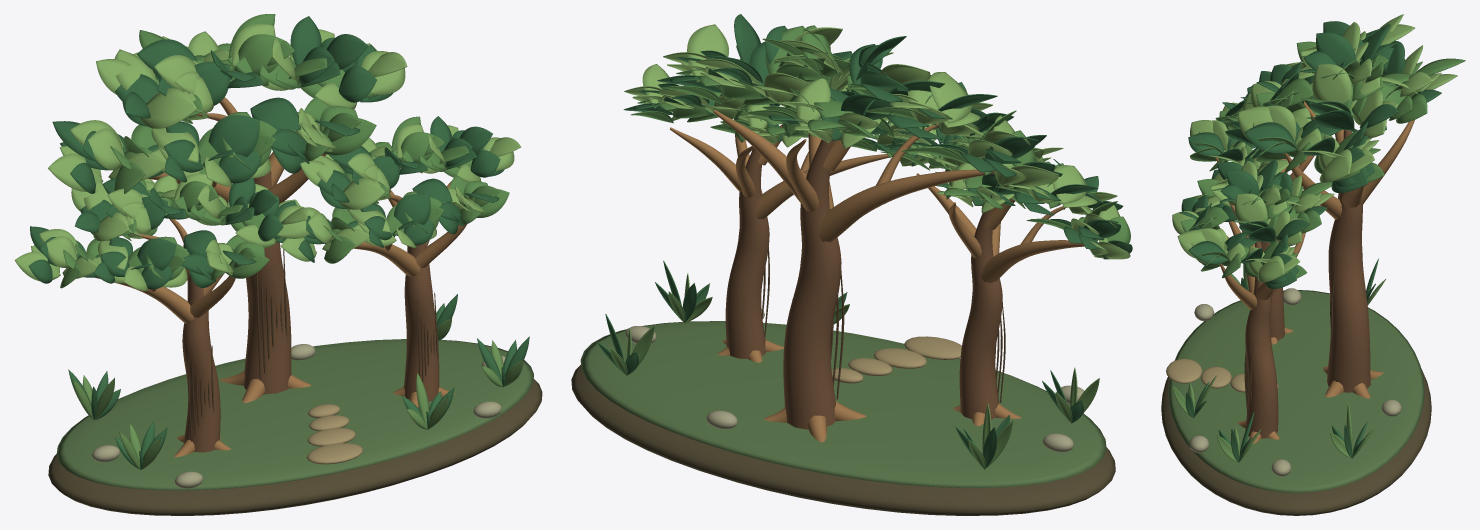
The model's file is forest.glb.
3 renders of one model, left to right at view 1: azimuth 30°, elevation 25°; view 2: azimuth 150°, elevation 25°; view 3: azimuth 270°, elevation 25°, orthographic. The views are drawn at different scales.
Visible parts, largest first — view 1: forest_surface_07, forest_surface_03, forest_surface_05, forest_surface_04, forest_surface_06, forest_surface_00, forest_surface_01, forest_surface_10, forest_surface_09, forest_surface_02, forest_surface_08, forest_surface_11; view 2: forest_surface_07, forest_surface_00, forest_surface_05, forest_surface_06, forest_surface_03, forest_surface_01, forest_surface_04, forest_surface_10, forest_surface_08, forest_surface_09, forest_surface_02, forest_surface_11; view 3: forest_surface_07, forest_surface_05, forest_surface_03, forest_surface_00, forest_surface_04, forest_surface_06, forest_surface_01, forest_surface_10, forest_surface_08, forest_surface_09, forest_surface_11, forest_surface_02.
Part boxes in pixels (x1,y1,x2,y2): forest_surface_07: (56, 339, 533, 490); forest_surface_03: (28, 16, 504, 289); forest_surface_05: (14, 24, 520, 290); forest_surface_04: (60, 14, 509, 288); forest_surface_06: (48, 379, 542, 515); forest_surface_00: (182, 170, 439, 452); forest_surface_01: (95, 97, 467, 457); forest_surface_10: (72, 318, 523, 469); forest_surface_09: (68, 294, 529, 470); forest_surface_02: (188, 249, 437, 441); forest_surface_08: (306, 404, 363, 464); forest_surface_11: (91, 344, 505, 488); forest_surface_07: (580, 321, 1106, 487); forest_surface_00: (725, 139, 1002, 429); forest_surface_05: (624, 24, 1130, 259); forest_surface_06: (571, 365, 1115, 515); forest_surface_03: (623, 14, 1132, 259); forest_surface_01: (669, 110, 1084, 442); forest_surface_04: (630, 25, 1130, 243); forest_surface_10: (610, 273, 1099, 469); forest_surface_08: (831, 336, 961, 383); forest_surface_09: (597, 260, 1084, 469); forest_surface_02: (762, 246, 1005, 402); forest_surface_11: (625, 309, 1084, 452); forest_surface_07: (1168, 290, 1424, 492); forest_surface_05: (1172, 14, 1457, 282); forest_surface_03: (1179, 21, 1441, 288); forest_surface_00: (1245, 130, 1370, 438); forest_surface_04: (1181, 41, 1465, 278); forest_surface_06: (1161, 368, 1431, 515); forest_surface_01: (1215, 101, 1414, 444); forest_surface_10: (1172, 269, 1385, 462); forest_surface_08: (1166, 358, 1278, 392); forest_surface_09: (1181, 258, 1378, 462); forest_surface_11: (1189, 288, 1401, 476); forest_surface_02: (1244, 261, 1335, 412).
Bounding box in the file's own units: 5.31 × 4.07 × 3.04.
